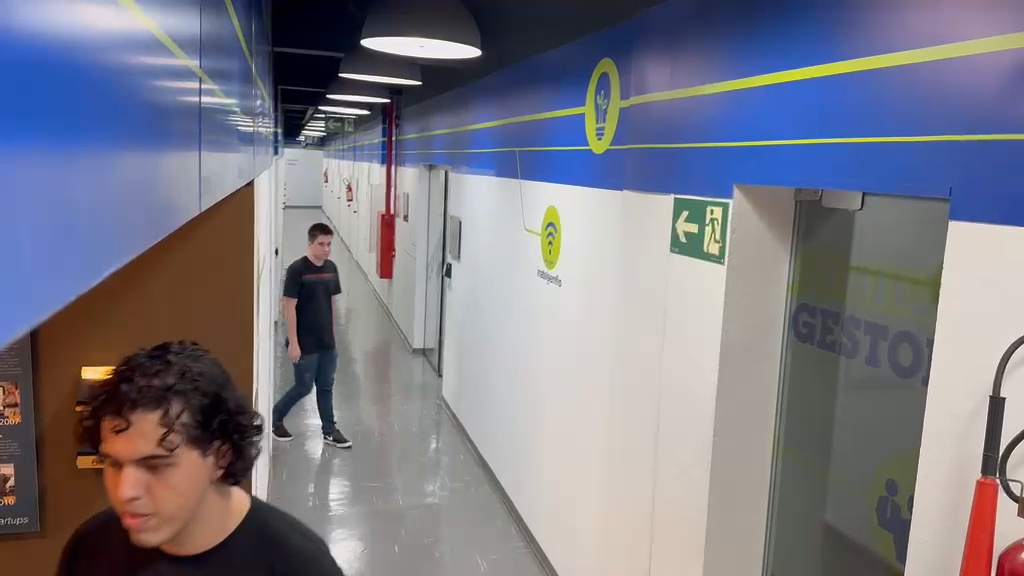person: (56, 340, 345, 571), (272, 220, 354, 449)
